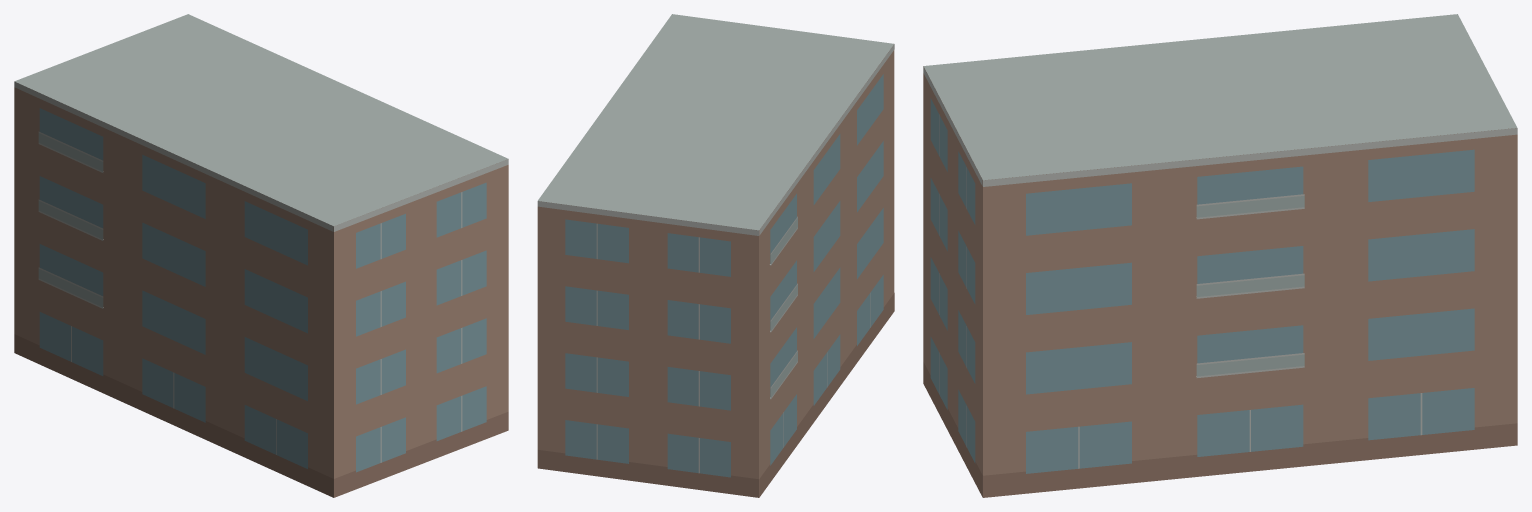
The model's file is survey-upis-32915384.glb.
3 renders of one model, left to right at view 1: azimuth 30°, elevation 25°; view 2: azimuth 150°, elevation 25°; view 3: azimuth 270°, elevation 25°, orthographic. The views are drawn at different scales.
Visible parts, largest first — view 1: survey-upis-32915384.tmp; view 2: survey-upis-32915384.tmp; view 3: survey-upis-32915384.tmp.
Boxes of the visible parts, <box> form: survey-upis-32915384.tmp: <box>14,14,508,497</box>; survey-upis-32915384.tmp: <box>537,14,894,497</box>; survey-upis-32915384.tmp: <box>923,14,1517,497</box>.
Size of the model in its own units: 12.93 by 11.5 by 19.51.
